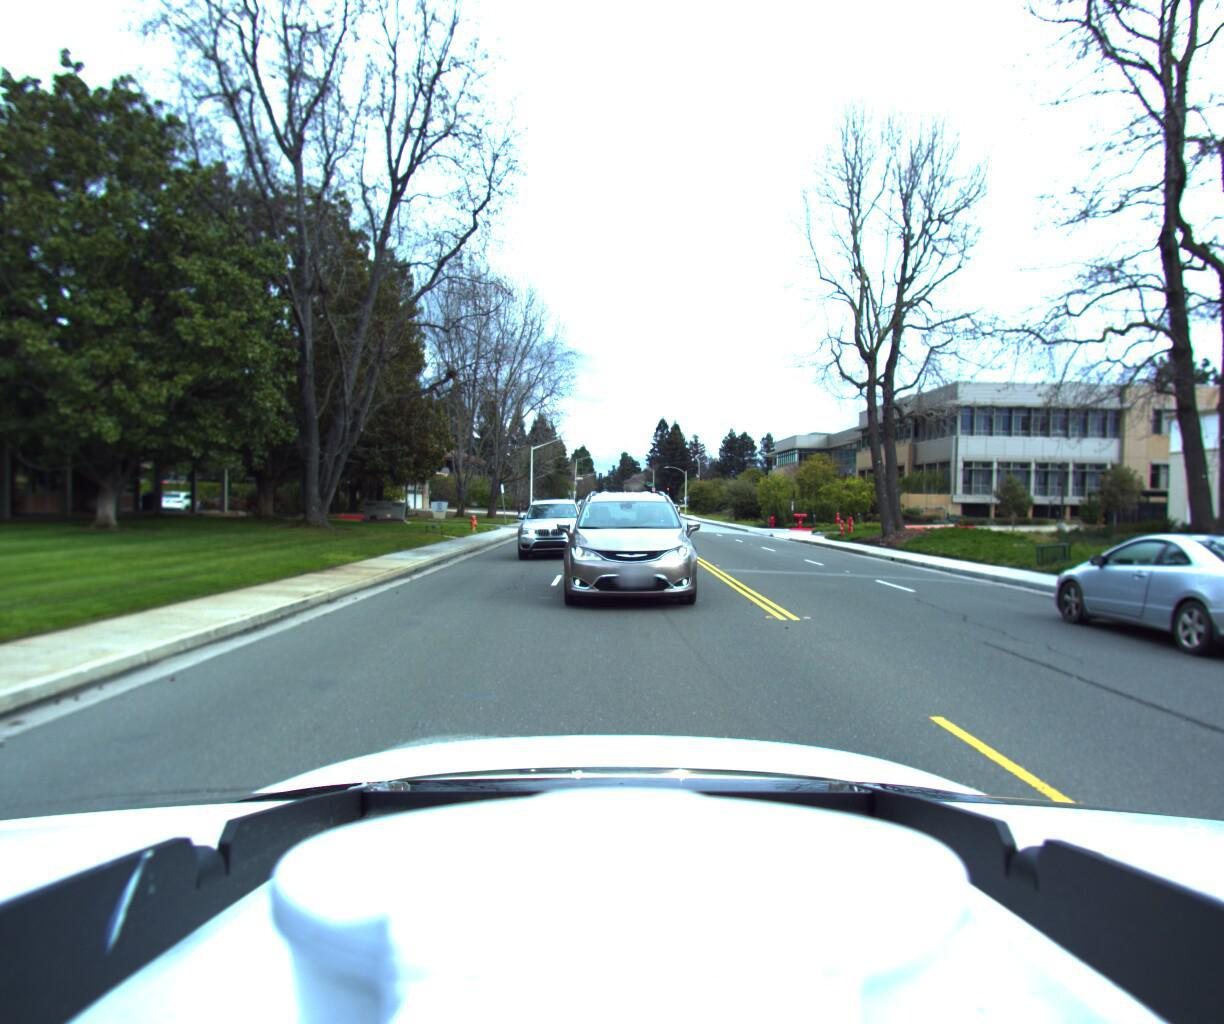car: (1003, 526, 1224, 665), (536, 474, 710, 618), (513, 498, 590, 563)
